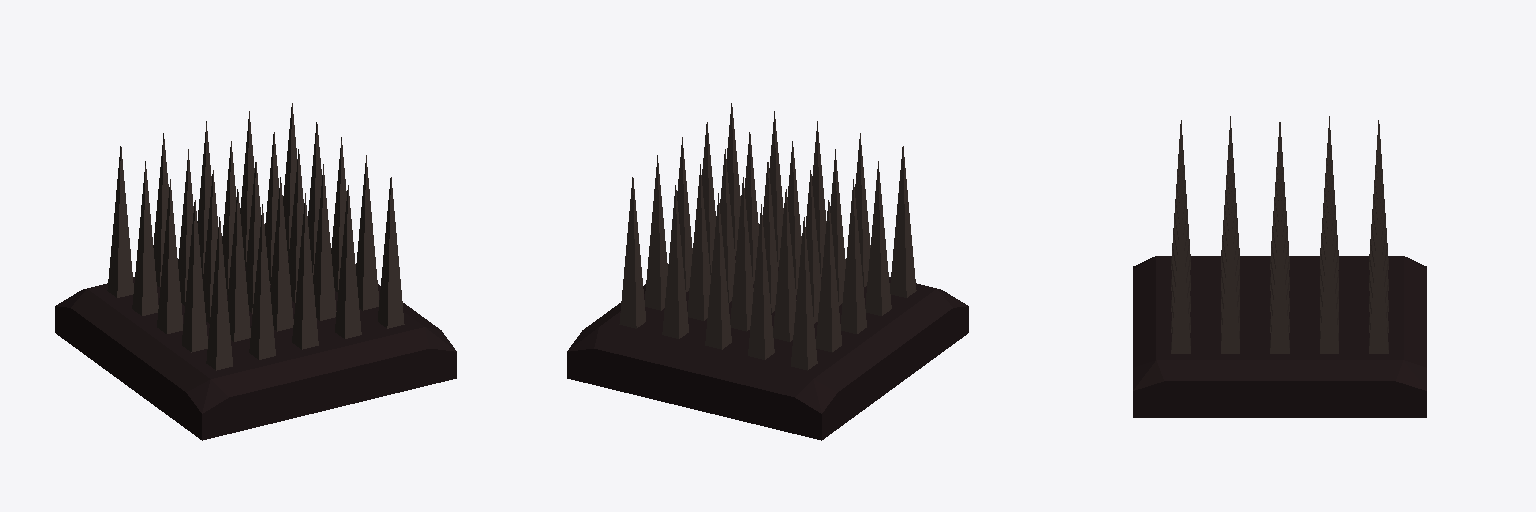
File: Spikes_Platform_Cube.obj
3 views of the same model, side by side, from view 1: azimuth 30°, elevation 25°; view 2: azimuth 150°, elevation 25°; view 3: azimuth 270°, elevation 25° (orthographic).
Visible parts, largest first — view 1: Spikes_Platform_Cube.001; view 2: Spikes_Platform_Cube.001; view 3: Spikes_Platform_Cube.001.
Boxes of the visible parts, x1=… form: Spikes_Platform_Cube.001: x1=55, y1=103, x2=456, y2=440; Spikes_Platform_Cube.001: x1=567, y1=103, x2=968, y2=440; Spikes_Platform_Cube.001: x1=1133, y1=116, x2=1426, y2=417.
Bounding box in the file's own units: 1.7 × 1.27 × 1.7.